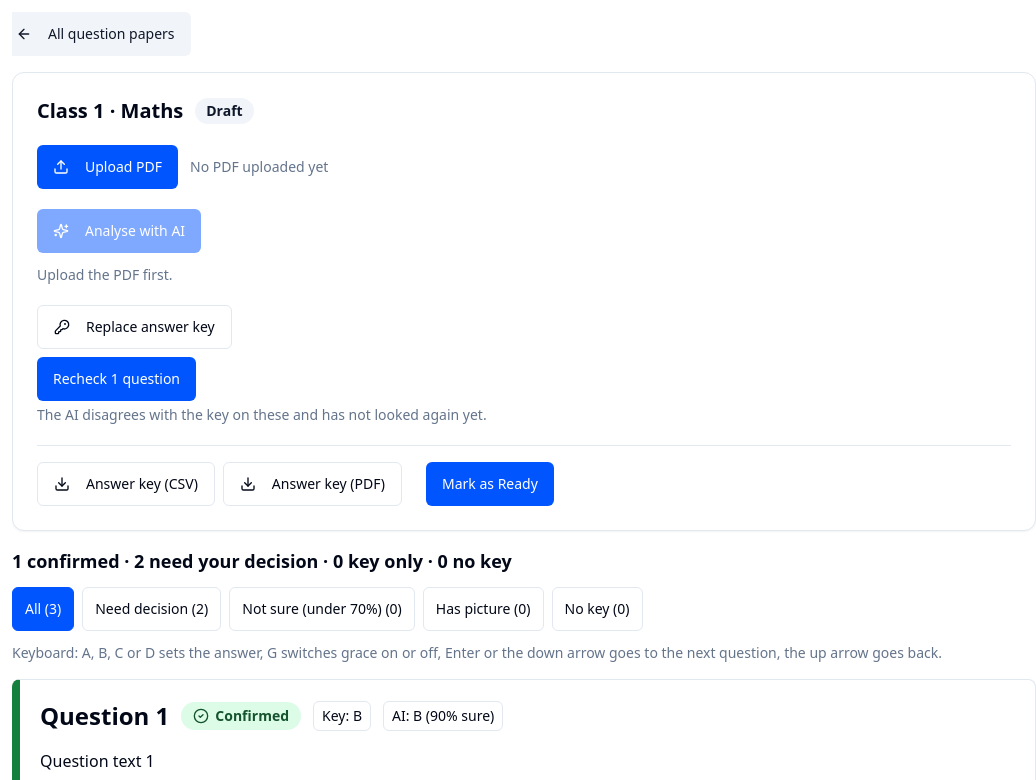
Scenario: PaperEditor answer key › blocks Ready and names the questions that need a decision
The image size is (1036, 780).
Click the button "Mark as Ready". click: (490, 484)
box: [426,462,554,506]
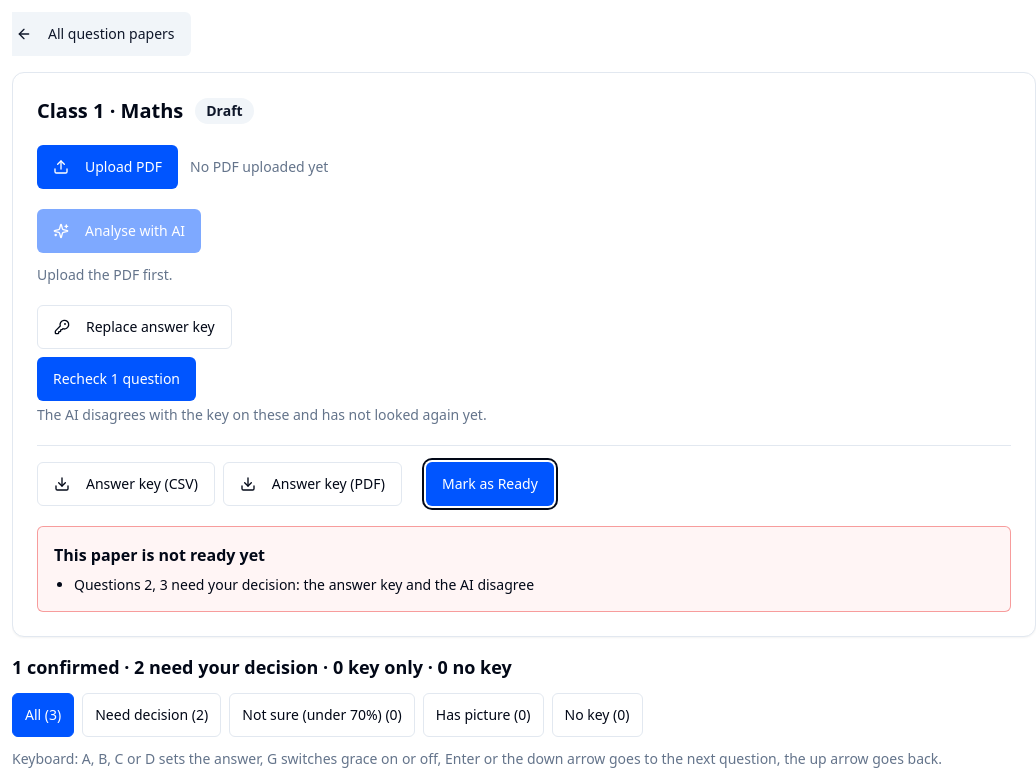
Expected: the list item "Questions 2, 3 need your decision" is shown, [74,575,534,594]
